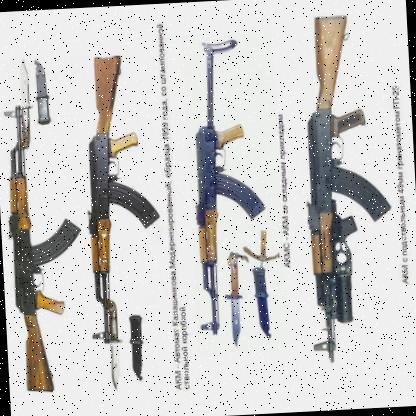rifle: (286, 11, 402, 368), (0, 71, 94, 397), (79, 45, 171, 353), (182, 36, 274, 338)
